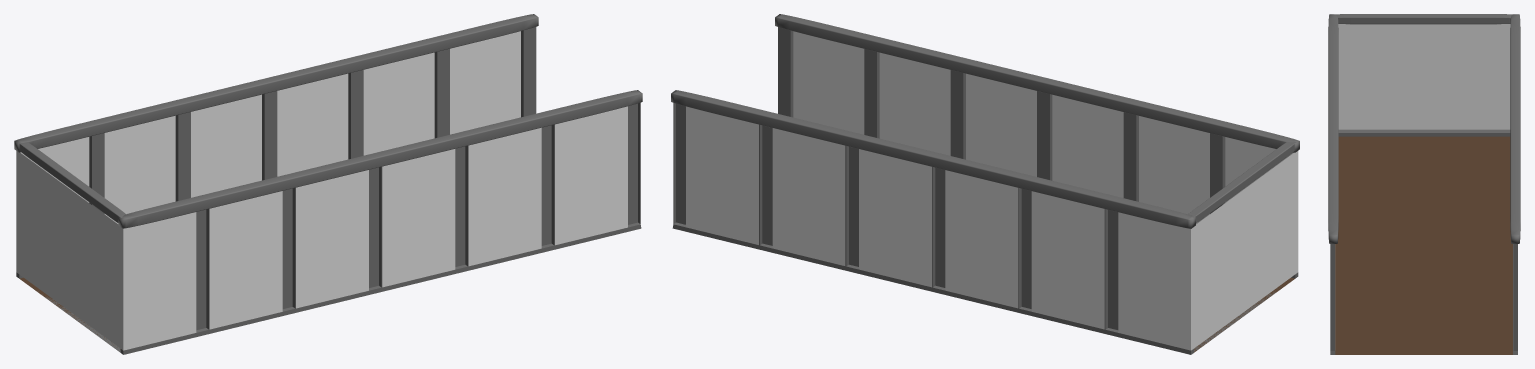
Rendered from Room (3).fbx.
3 views of the same model, side by side, from view 1: azimuth 30°, elevation 25°; view 2: azimuth 150°, elevation 25°; view 3: azimuth 270°, elevation 25° (orthographic). The views are drawn at different scales.
Parts seen in each view (by area): view 1: Room.011; view 2: Room.011; view 3: Room.011.
Boxes of the visible parts, x1,y1,x2,y2 form: Room.011: (14,14,642,354); Room.011: (671,14,1299,354); Room.011: (1328,14,1520,354).
Bounding box in the file's own units: 4204 × 1055 × 1536.
